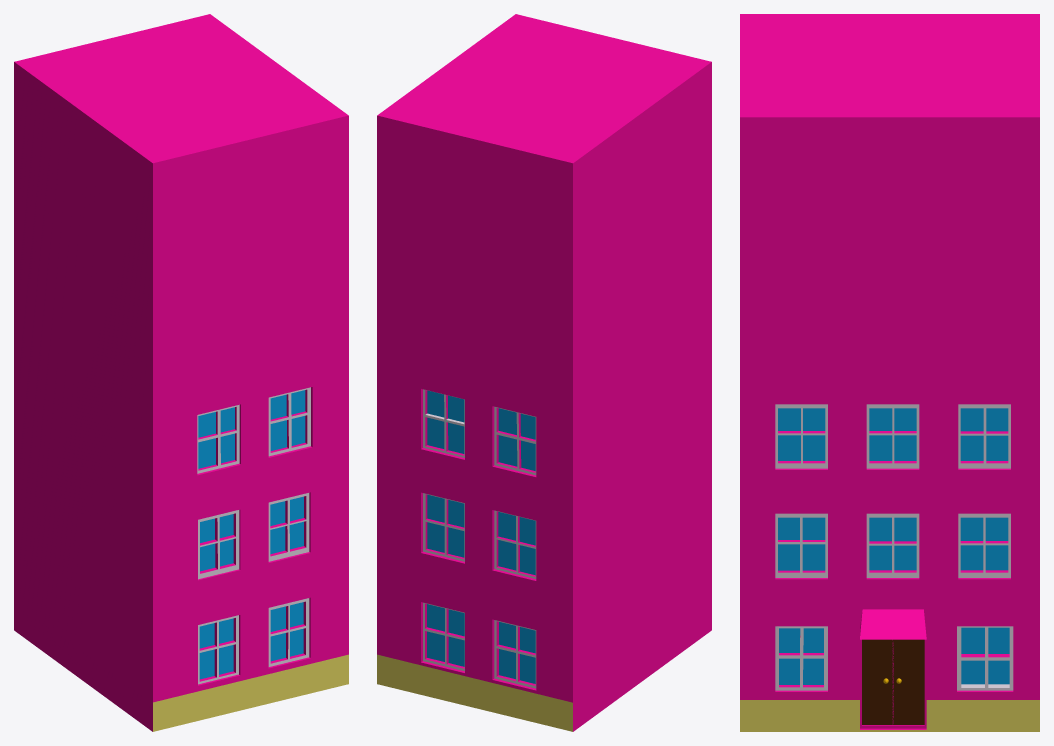
Rendered from High Rise 8 Pink.fbx.
3 views of the same model, side by side, from view 1: azimuth 30°, elevation 25°; view 2: azimuth 150°, elevation 25°; view 3: azimuth 270°, elevation 25° (orthographic). The views are drawn at different scales.
Parts seen in each view (by area): view 1: Cube; view 2: Cube; view 3: Cube.
Boxes of the visible parts, box(x1,y1,x2,y2) form: Cube: box(14, 14, 348, 731); Cube: box(377, 14, 711, 731); Cube: box(740, 14, 1039, 731).
Size of the model in its own units: 314 by 791 by 350.
